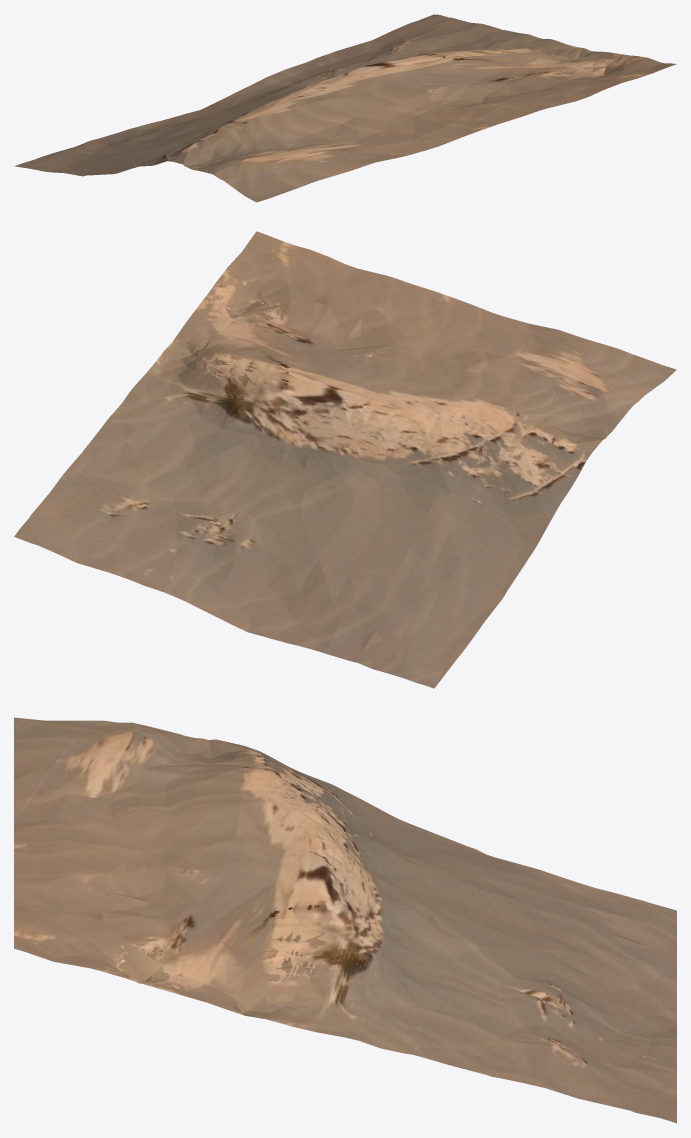
The picture shows the model from 3 angles, top to bottom: view 1: azimuth 30°, elevation 25°; view 2: azimuth 150°, elevation 25°; view 3: azimuth 270°, elevation 25°; orthographic projection. The views are drawn at different scales.
Size of the model in its own units: 1.04 by 0.4208 by 1.04.
Materials: 2 (2 with a texture image).
